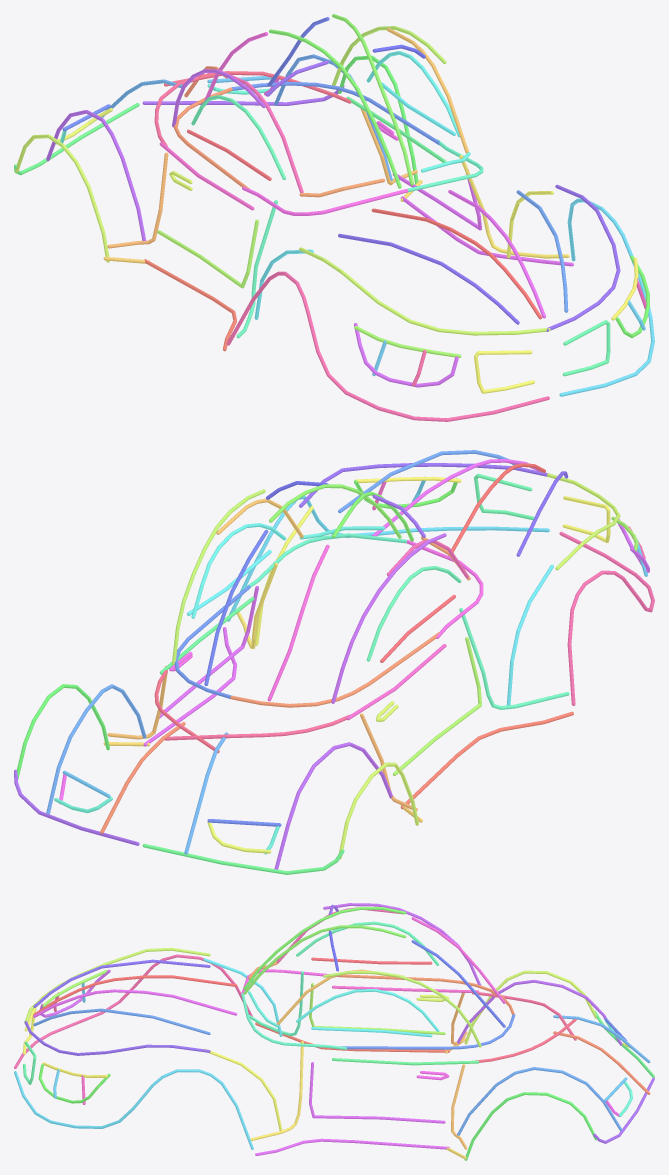
Rendered from author1_car.gltf.
The picture shows the model from 3 angles, top to bottom: view 1: azimuth 30°, elevation 25°; view 2: azimuth 150°, elevation 25°; view 3: azimuth 270°, elevation 25°; orthographic projection. The views are drawn at different scales.
Bounding box in the file's own units: 0.4235 × 0.2787 × 0.8692.
